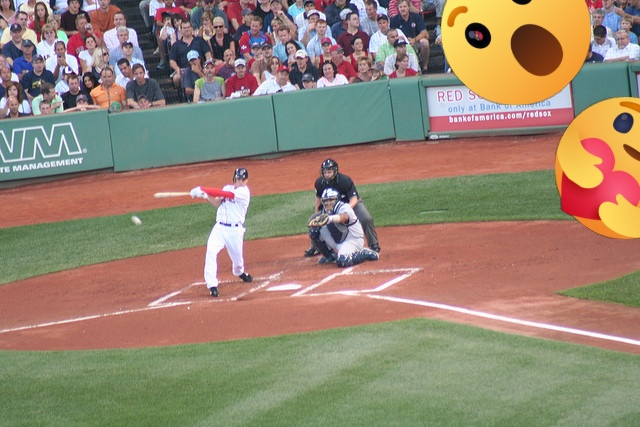care: (555, 97, 640, 239)
wow: (441, 0, 591, 105)
